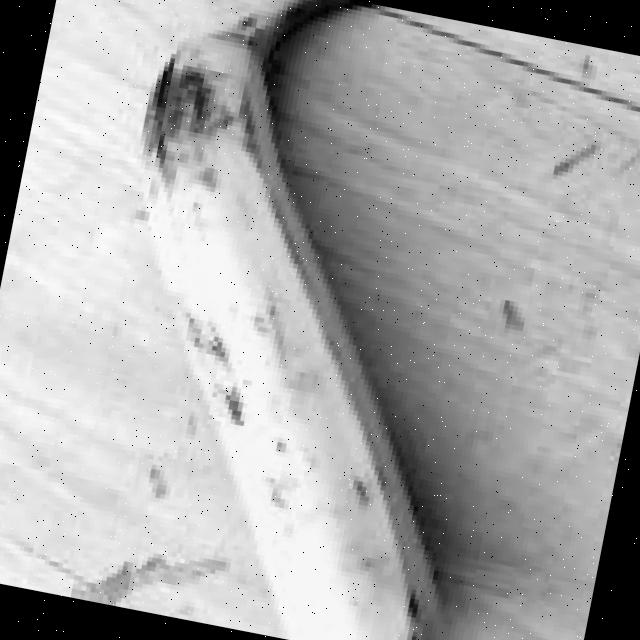Good_Banana-2-3 days: (144, 0, 436, 640)
